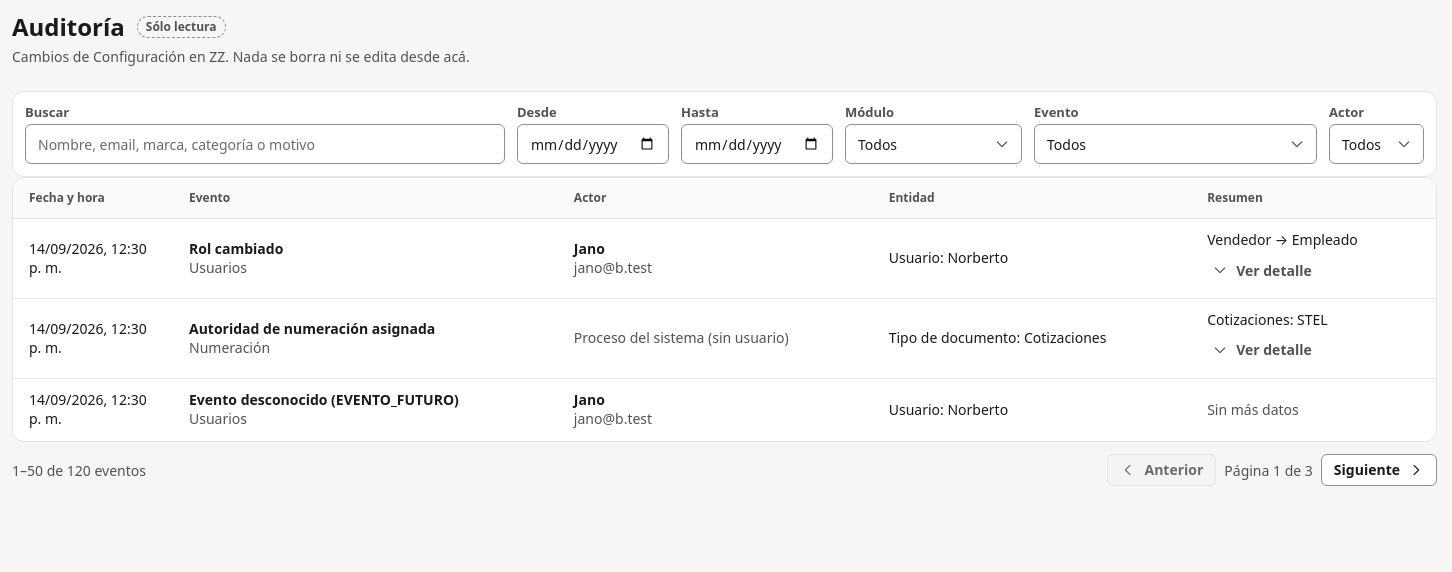
Test: Auditoría › detalle expandible accesible, sólo campos seguros
What coordinates should you click on to do the following:
click the button "Ver detalle" below "Vendedor → Empleado"
I would click on:
 (1262, 270)
Its box is [1199,254,1325,286].
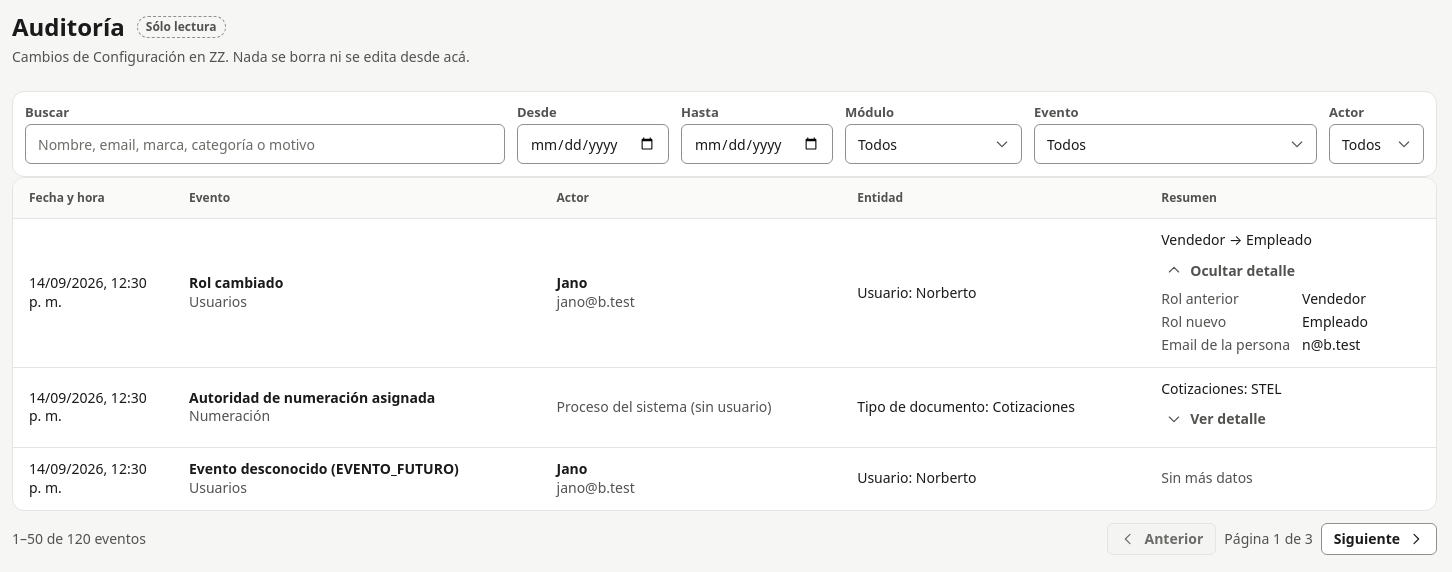
Expected: the button "Ocultar detalle" is expanded, [1153,254,1308,286]
